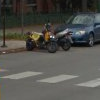crosswalk: (0, 69, 100, 87)
